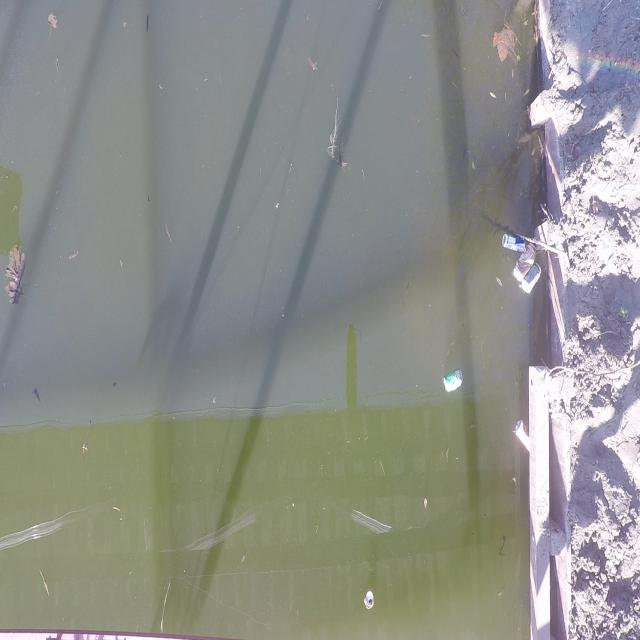Non plastique: (511, 244, 536, 282), (437, 370, 465, 400), (499, 232, 525, 255), (525, 268, 542, 298), (514, 420, 527, 450), (363, 592, 376, 613)
